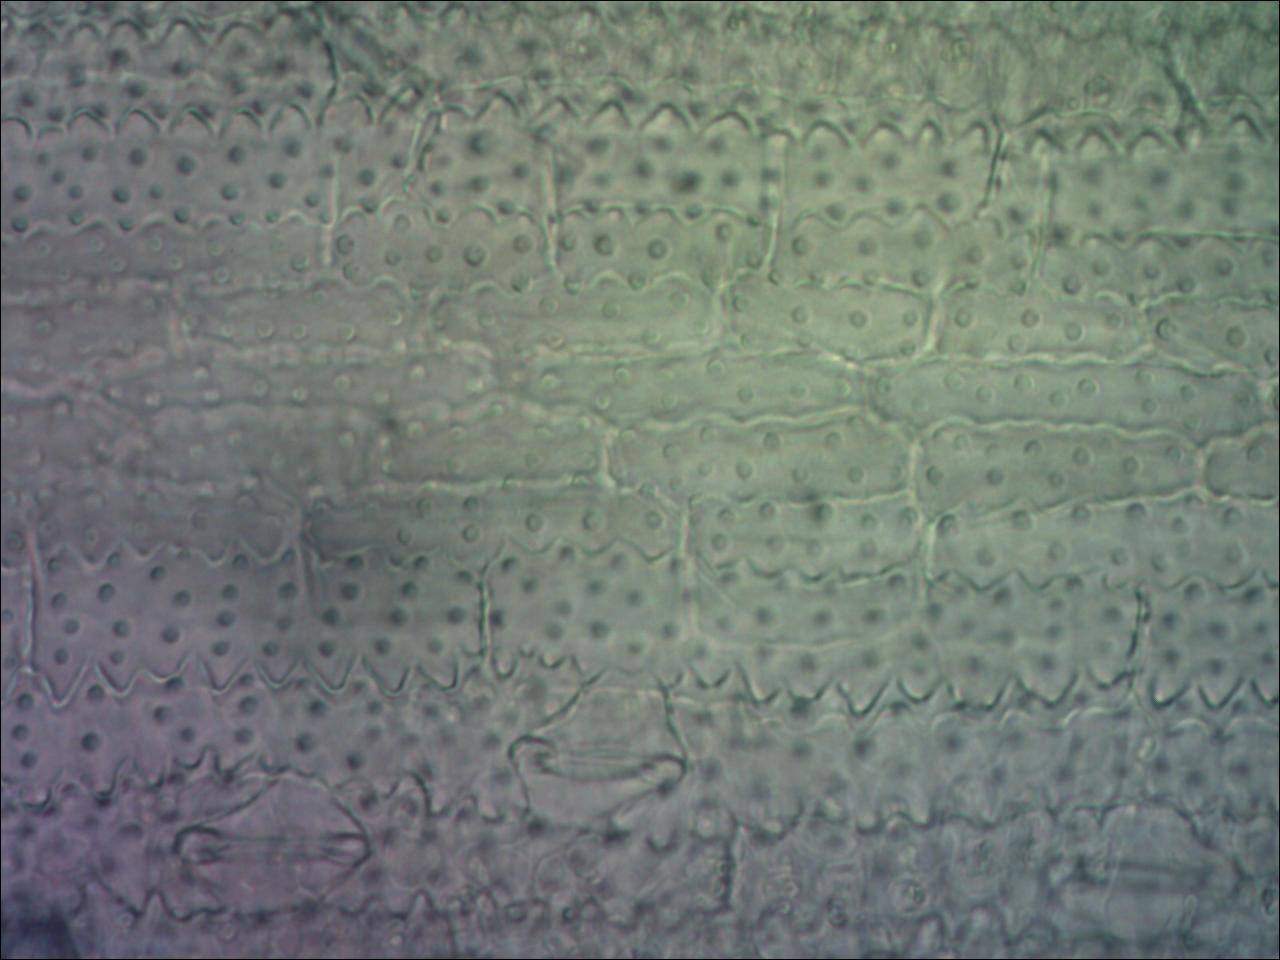stoma: (181, 769, 372, 918), (510, 664, 686, 817), (1052, 804, 1245, 938)
